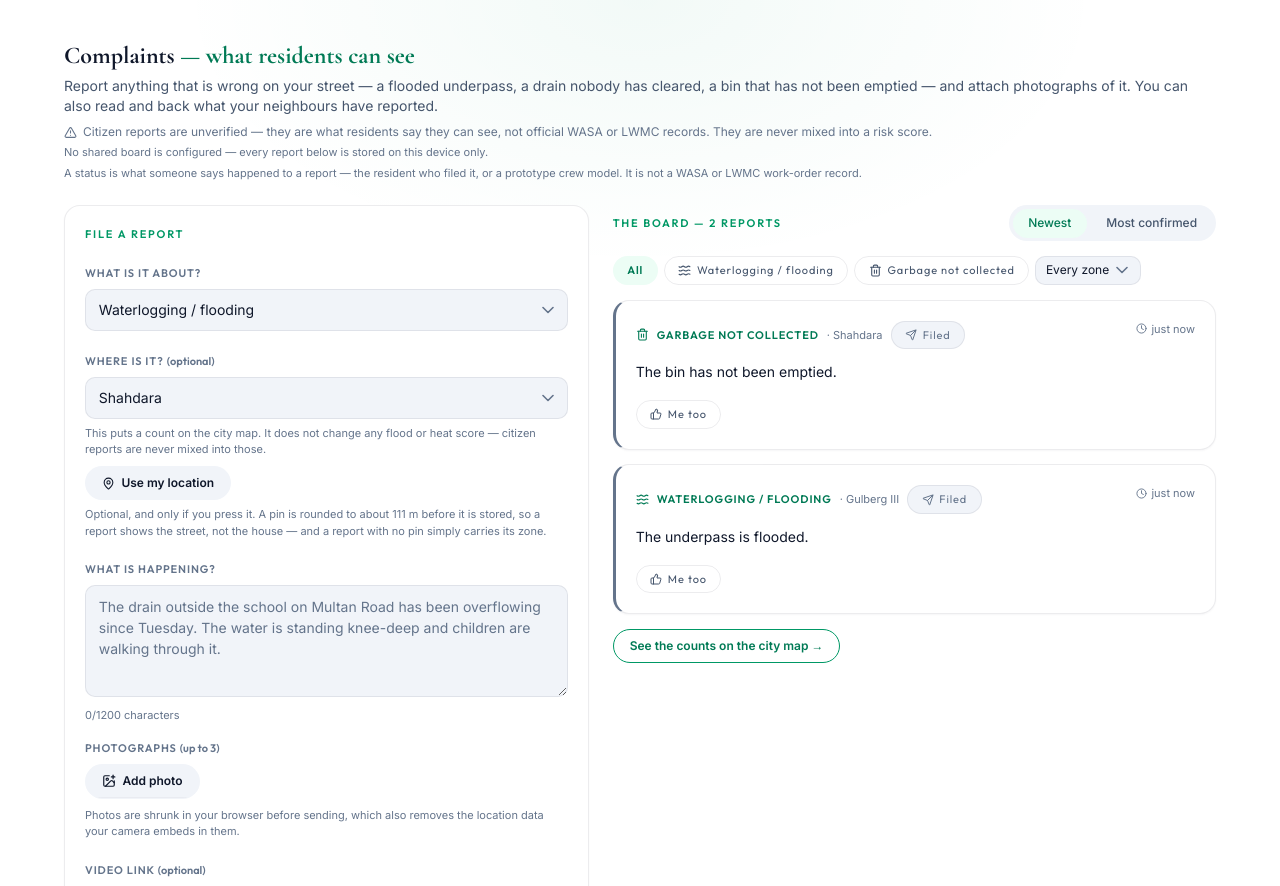
it: ComplaintsView — the board › says so when a filter matches nothing, and offers the way back
Click the button "Waterlogging / flooding": (756, 270) [664,256,848,285]
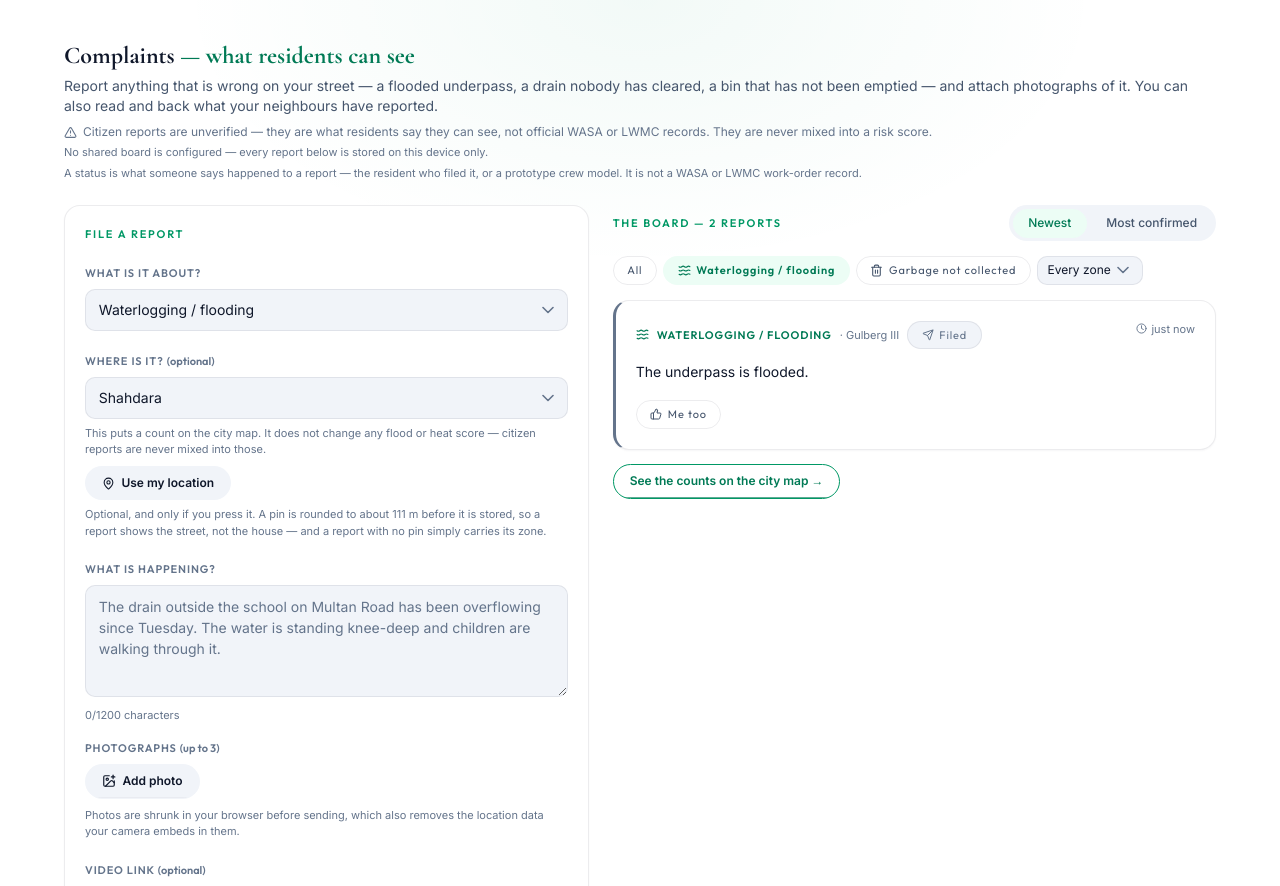
Select "Shahdara" in the dropdown named "Filter by zone": (1090, 270) [1037,256,1143,285]
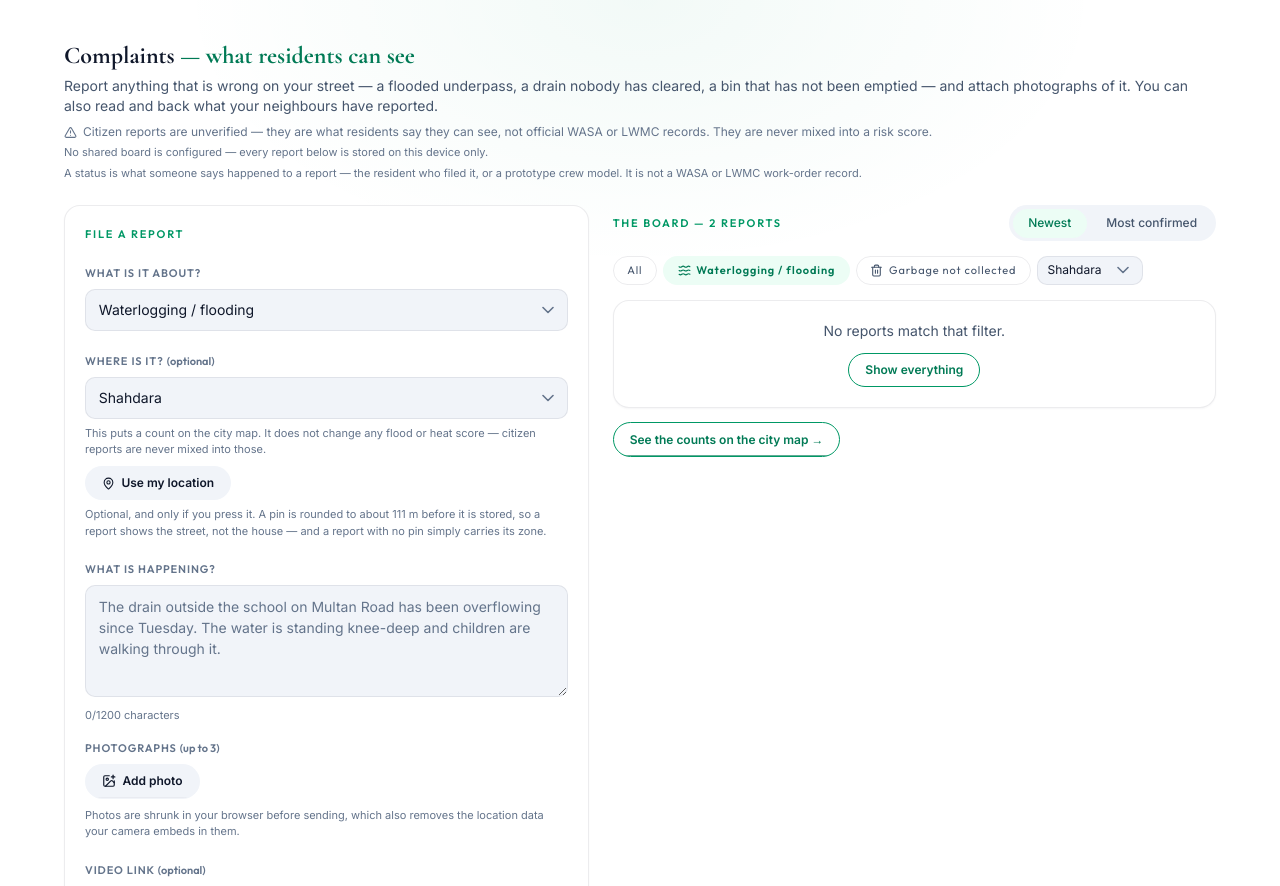
Now the text "No reports match that filter." is shown, box [824,322,1005,339]
Click the button "Show everything": (914, 370) [848,353,980,387]
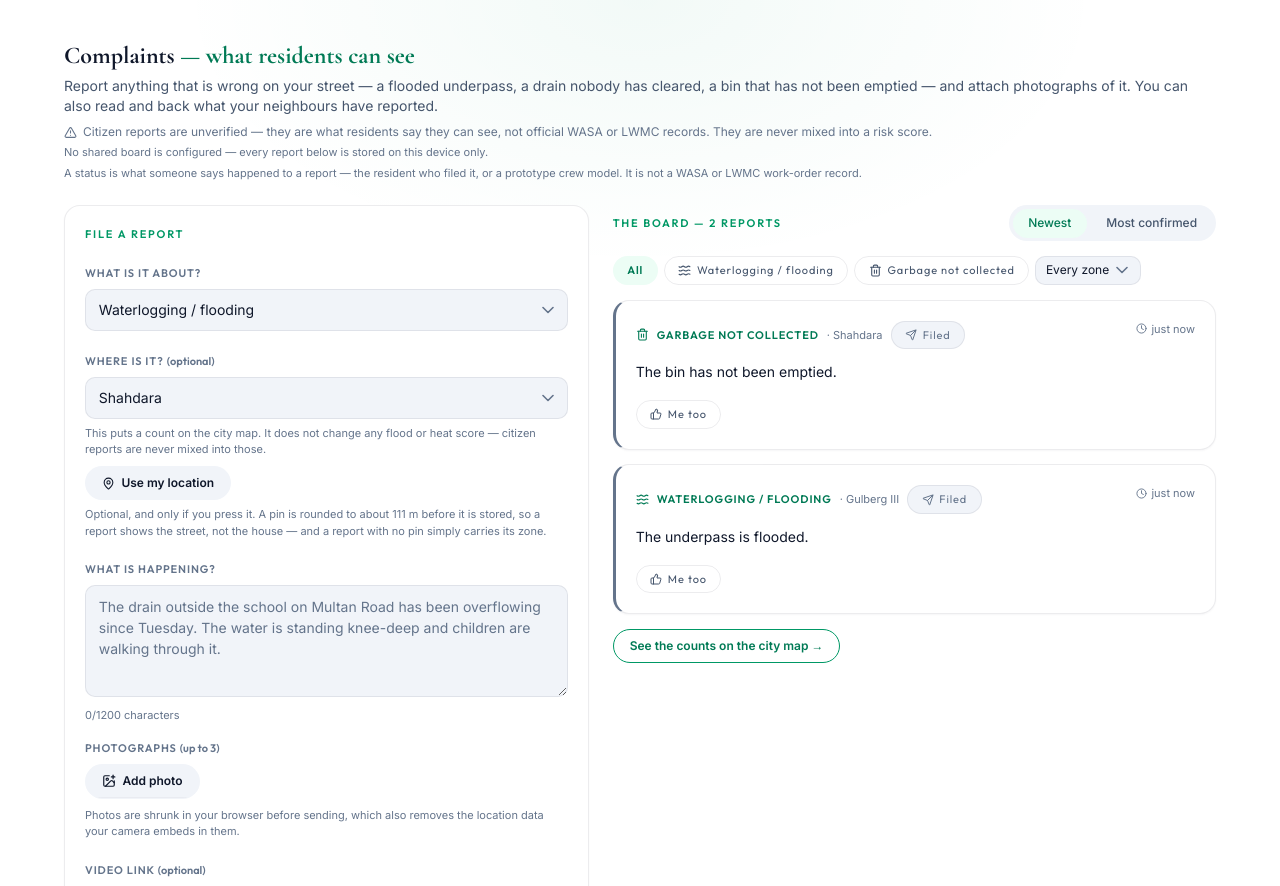
Now the text "The bin has not been emptied." is shown, box [636,363,837,380]
